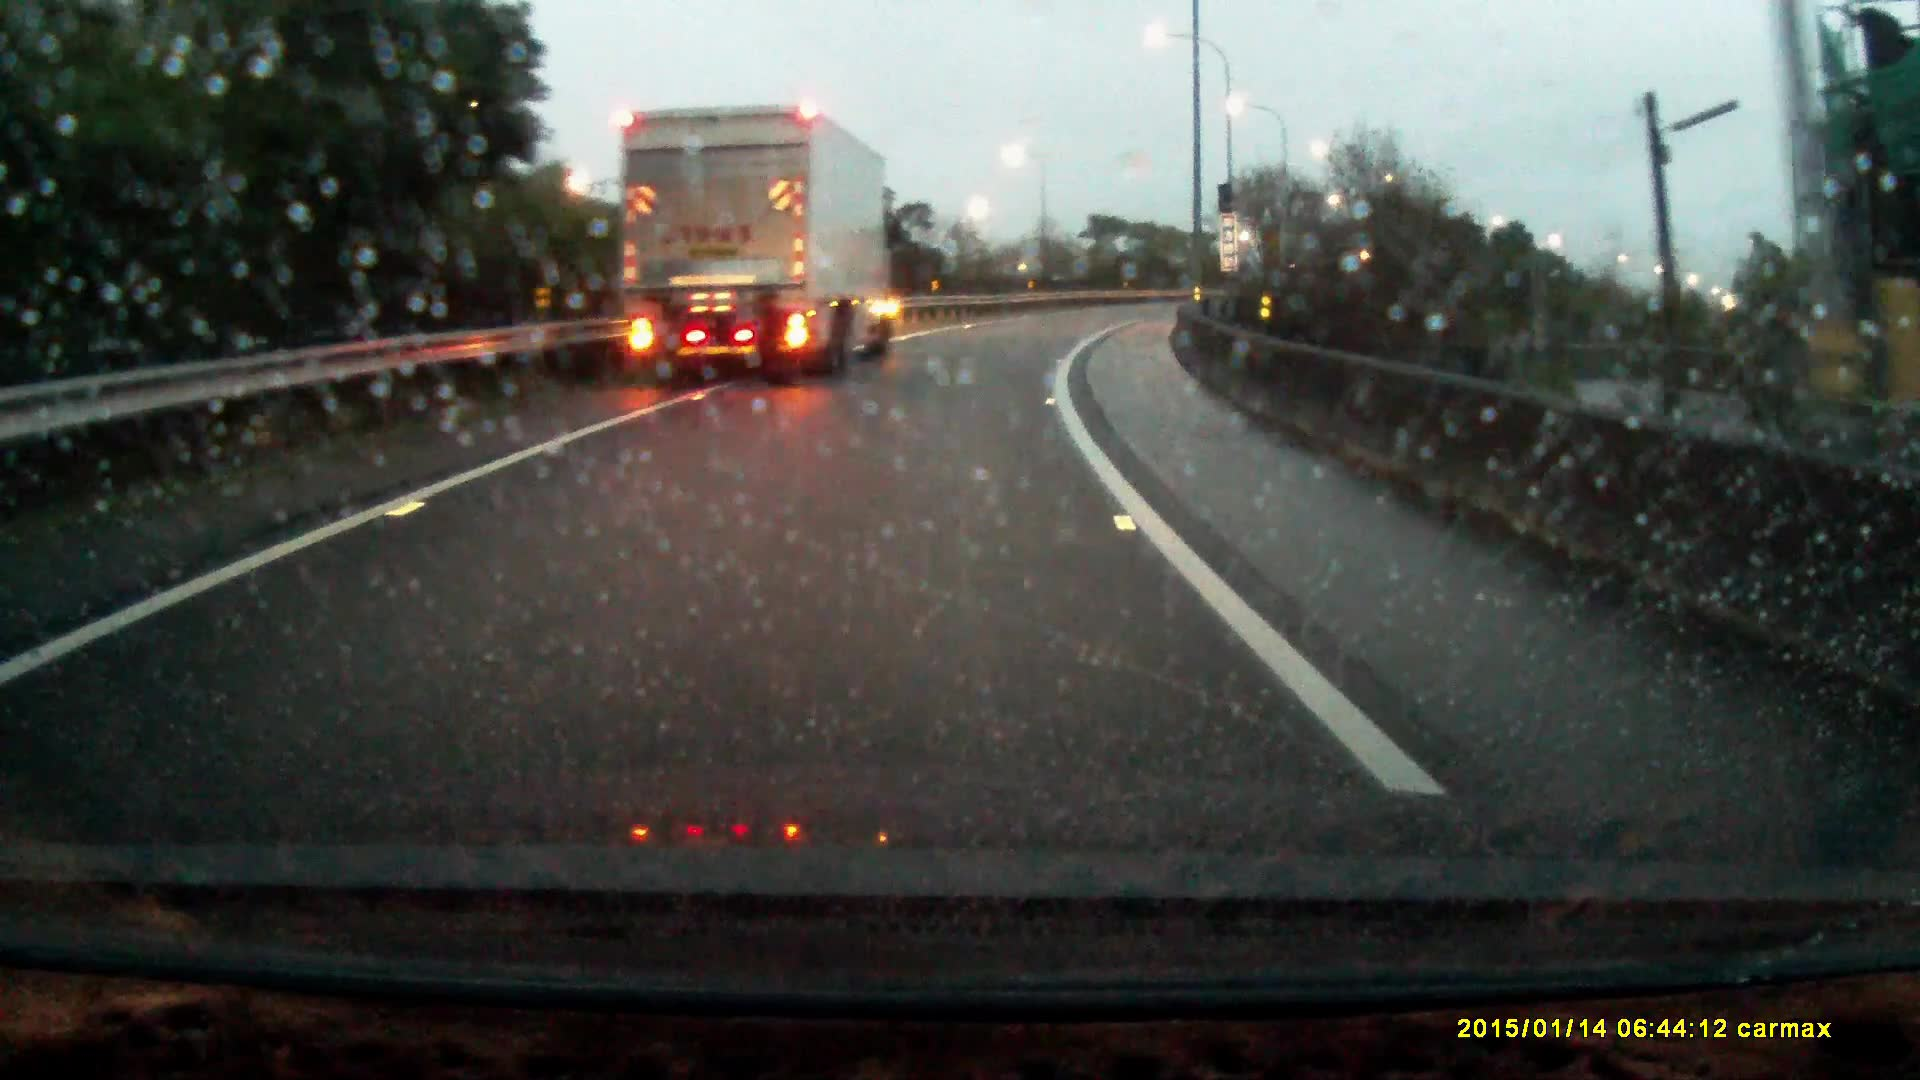vehicle: (612, 102, 901, 385)
